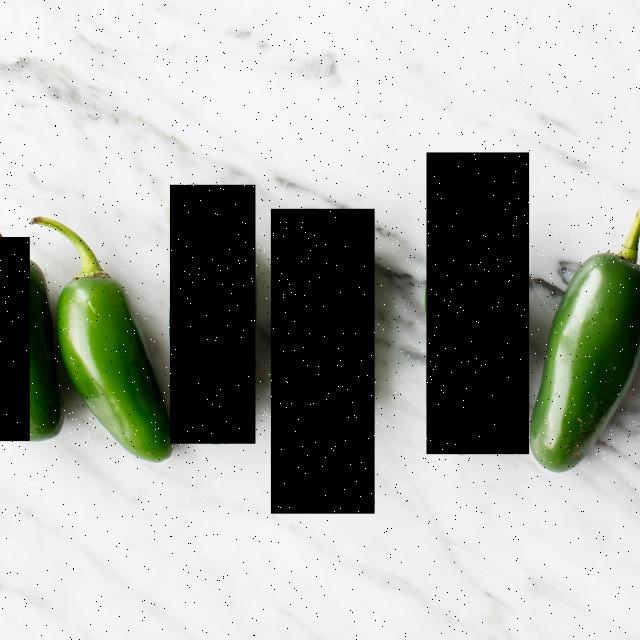Chili_Pepper: (30, 216, 172, 463), (271, 209, 375, 514), (426, 152, 529, 454), (532, 213, 640, 472), (170, 185, 255, 444), (0, 237, 62, 441)
